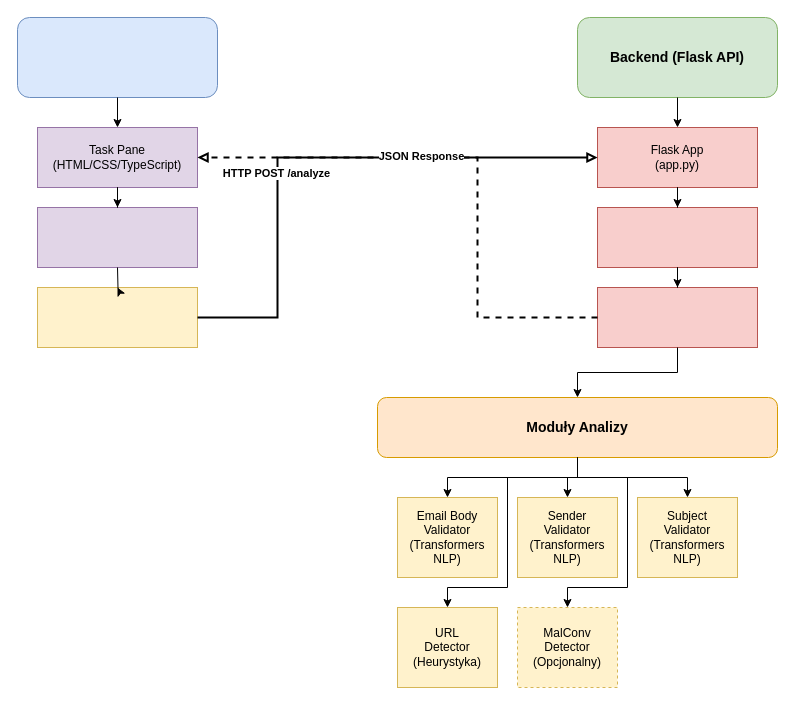
This 795x705 diagram has some shape labels left out. The shapes that lost their labels are listed below. From the top down, each one's box as (x1, y1, x2, y2) in pixels, then its label:
(16, 16, 218, 98): Frontend (Office Add-in)
(36, 206, 198, 268): Ribbon Button
(596, 206, 758, 268): Validators Pipeline
(36, 286, 198, 348): Office.js API (Mailbox 1.3)
(596, 286, 758, 348): Response Builder
